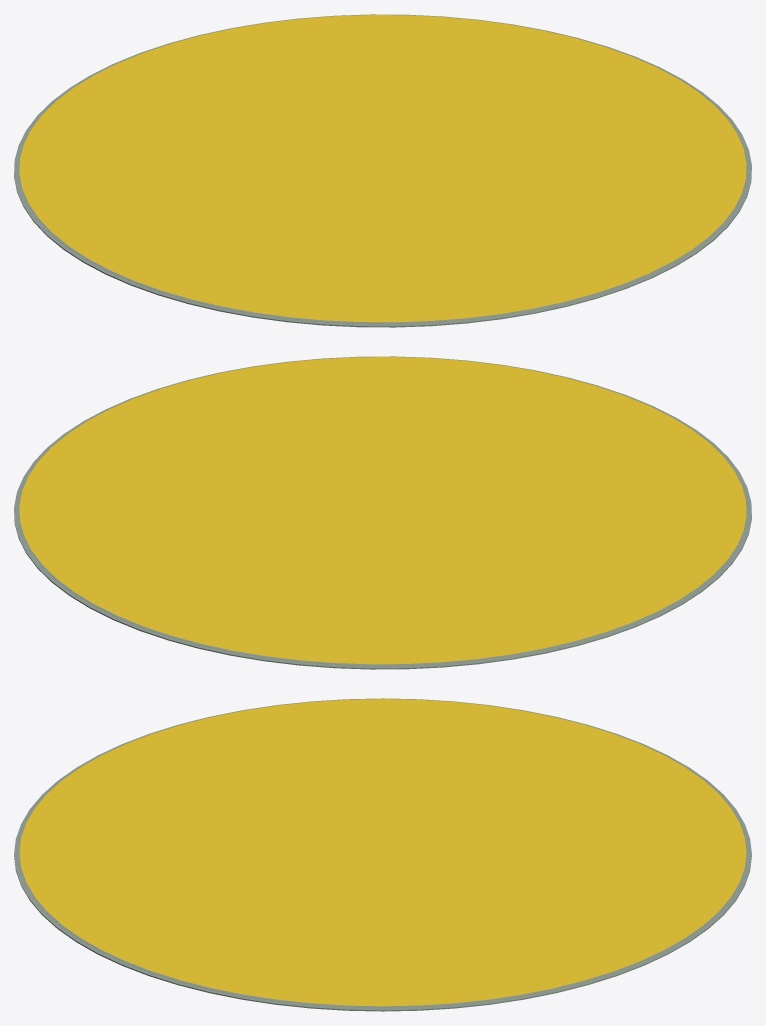
The model's file is water.ferry.turntable.glb.
The picture shows the model from 3 angles, top to bottom: view 1: azimuth 30°, elevation 25°; view 2: azimuth 150°, elevation 25°; view 3: azimuth 270°, elevation 25°; orthographic projection.
Visible parts, largest first — view 1: main__paint_ec3, main__paint_9a9; view 2: main__paint_ec3, main__paint_9a9; view 3: main__paint_ec3, main__paint_9a9.
Boxes of the visible parts, left/top/right/bottom form: main__paint_ec3: left=19, top=15, right=746, bottom=323; main__paint_9a9: left=14, top=14, right=751, bottom=327; main__paint_ec3: left=19, top=357, right=746, bottom=665; main__paint_9a9: left=14, top=356, right=751, bottom=669; main__paint_ec3: left=19, top=699, right=746, bottom=1007; main__paint_9a9: left=14, top=698, right=751, bottom=1011.
Bounding box in the file's own units: 6.8 × 0.0295 × 6.8.
